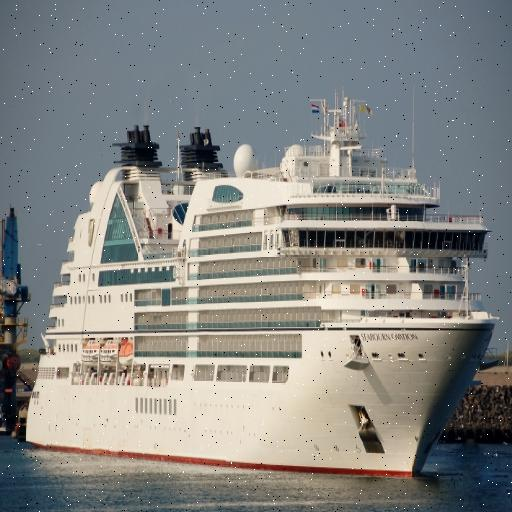cruises: (23, 88, 503, 491)
